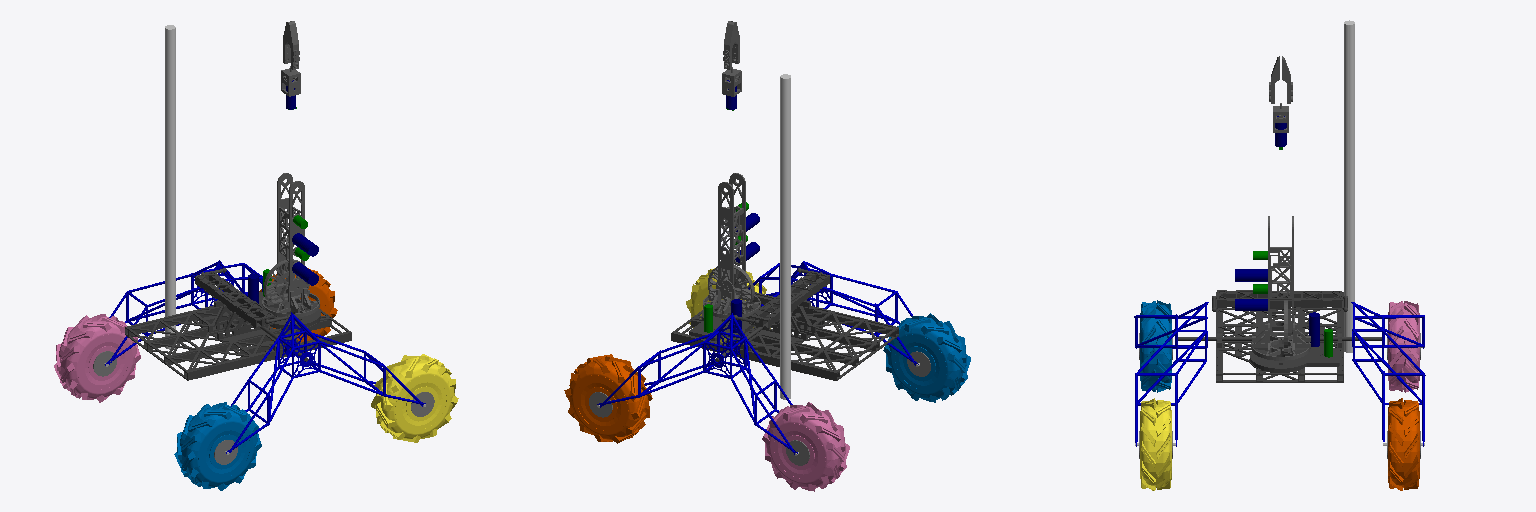
--- Render facts (derived) ---
3 views of the same robot in one strip: view 1: azimuth 30°, elevation 25°; view 2: azimuth 150°, elevation 25°; view 3: azimuth 270°, elevation 25° (orthographic).
Robot: aleph2 — 17 links, 16 joints (4 revolute, 5 continuous, 2 prismatic, 5 fixed); root link base_link; default pose: all joints at 0.
Links seen in each view (by area): view 1: base_link, wheel_RR_link, wheel_RL_link, wheel_FR_link, rocker_R_link, mast_link, manip_shoulder_link, rocker_L_link, manip_base_link, wheel_FL_link, manip_wrist_link; view 2: base_link, wheel_RL_link, wheel_RR_link, wheel_FL_link, rocker_L_link, mast_link, manip_shoulder_link, rocker_R_link, manip_base_link, wheel_FR_link, manip_wrist_link; view 3: base_link, mast_link, wheel_FL_link, wheel_FR_link, rocker_R_link, rocker_L_link, manip_shoulder_link, wheel_RL_link, wheel_RR_link, manip_base_link, manip_wrist_link.
Boxes of the visible links, x1,y1,x2,y2 form: base_link: (125,268,351,380); wheel_RR_link: (174,402,261,490); wheel_RL_link: (54,314,140,402); wheel_FR_link: (371,354,458,442); rocker_R_link: (226,312,425,453); mast_link: (165,25,175,349); manip_shoulder_link: (277,173,318,295); rocker_L_link: (105,260,262,365); manip_base_link: (262,259,319,317); wheel_FL_link: (259,268,337,342); manip_wrist_link: (281,66,300,109); base_link: (671,268,898,380); wheel_RL_link: (762,402,849,491); wheel_RR_link: (883,313,970,402); wheel_FL_link: (564,354,652,443); rocker_L_link: (597,313,797,454); mast_link: (780,74,790,399); manip_shoulder_link: (718,173,759,296); rocker_R_link: (748,261,918,365); manip_base_link: (703,265,760,318); wheel_FR_link: (686,268,770,342); manip_wrist_link: (722,67,741,110); base_link: (1178,290,1381,382); mast_link: (1344,20,1354,352); wheel_FL_link: (1383,398,1424,490); wheel_FR_link: (1135,398,1175,490); rocker_R_link: (1134,302,1208,446); rocker_L_link: (1351,302,1425,446); manip_shoulder_link: (1235,216,1293,334); wheel_RL_link: (1387,301,1424,392); wheel_RR_link: (1139,300,1172,392); manip_base_link: (1251,300,1310,360); manip_wrist_link: (1273,103,1288,149).
Size in the robot's own frame: 1.17 by 1.05 by 1.58 metres.
12 mesh visuals loaded from 10 distinct referenced files (7 binary STL); not drawn: 3 (reference not matched to a file when rendering).

The robot description file, URDF, robot "aleph2":
<?xml version="1.0" encoding="utf-8"?>
<!-- =================================================================================== -->
<!-- |    This document was autogenerated by xacro from aleph2.urdf.xacro              | -->
<!-- |    EDITING THIS FILE BY HAND IS NOT RECOMMENDED                                 | -->
<!-- =================================================================================== -->
<robot name="aleph2">
  <!-- ros_control plugin -->
  <gazebo>
    <plugin filename="libgazebo_ros_control.so" name="gazebo_ros_control">
      <robotNamespace>/aleph2</robotNamespace>
      <robotSimType>gazebo_ros_control/DefaultRobotHWSim</robotSimType>
    </plugin>
  </gazebo>
  <gazebo reference="base_link">
    <material>Gazebo/Grey</material>
  </gazebo>
  <gazebo reference="rocker_R_link">
    <material>Gazebo/Blue</material>
  </gazebo>
  <gazebo reference="rocker_L_link">
    <material>Gazebo/Blue</material>
  </gazebo>
  <gazebo reference="wheel_FL_link">
    <material>Gazebo/FlatBlack</material>
    <mu1>3.0</mu1>
    <mu2>0.5</mu2>
    <fdir1>1 0 0</fdir1>
  </gazebo>
  <gazebo reference="wheel_FR_link">
    <material>Gazebo/FlatBlack</material>
    <mu1>3.0</mu1>
    <mu2>0.5</mu2>
    <fdir1>1 0 0</fdir1>
  </gazebo>
  <gazebo reference="wheel_RL_link">
    <material>Gazebo/FlatBlack</material>
    <mu1>3.0</mu1>
    <mu2>0.5</mu2>
    <fdir1>1 0 0</fdir1>
  </gazebo>
  <gazebo reference="wheel_RR_link">
    <material>Gazebo/FlatBlack</material>
    <mu1>3.0</mu1>
    <mu2>0.5</mu2>
    <fdir1>1 0 0</fdir1>
  </gazebo>
  <gazebo reference="mast_link">
    <material>Gazebo/White</material>
  </gazebo>
  <gazebo reference="manip_base_link">
    <material>Gazebo/Grey</material>
  </gazebo>
  <gazebo reference="manip_shoulder_link">
    <material>Gazebo/Grey</material>
    <selfCollide>true</selfCollide>
  </gazebo>
  <gazebo reference="manip_elbow_link">
    <material>Gazebo/Grey</material>
    <selfCollide>true</selfCollide>
  </gazebo>
  <gazebo reference="manip_wrist_link">
    <material>Gazebo/Grey</material>
    <selfCollide>true</selfCollide>
  </gazebo>
  <gazebo reference="manip_gripper_link">
    <material>Gazebo/Grey</material>
    <selfCollide>true</selfCollide>
  </gazebo>
  <gazebo reference="manip_jaw_L_link">
    <material>Gazebo/Grey</material>
    <selfCollide>true</selfCollide>
  </gazebo>
  <gazebo reference="manip_jaw_R_link">
    <material>Gazebo/Grey</material>
    <selfCollide>true</selfCollide>
  </gazebo>
  <material name="base">
    <color rgba="0.3 0.3 0.3 1"/>
  </material>
  <material name="rocker">
    <color rgba="0 0 0.8 1"/>
  </material>
  <material name="wheel">
    <texture filename="package://aleph2_description/textures/wheel.jpg"/>
  </material>
  <material name="manip">
    <color rgba="0.4 0.4 0.4 1"/>
  </material>
  <material name="motor">
    <color rgba="0 0 0.5 1"/>
  </material>
  <material name="encoder">
    <color rgba="0 0.5 0 1"/>
  </material>
  <material name="mast">
    <color rgba="0.8 0.8 0.8 1"/>
  </material>
  <link name="base_link">
    <visual>
      <geometry>
        <mesh filename="package://aleph2_description/meshes/base.STL"/>
      </geometry>
      <origin rpy="1.57079632679 0 1.57079632679" xyz="0 0 0"/>
      <material name="base"/>
    </visual>
    <visual>
      <geometry>
        <cylinder length="0.12" radius="0.02"/>
      </geometry>
      <origin xyz="0.06 0.125 0.063"/>
      <material name="motor">
        <color rgba="0 0 0.5 1"/>
      </material>
    </visual>
    <visual>
      <geometry>
        <cylinder length="0.1" radius="0.016"/>
      </geometry>
      <origin xyz="0.151 0.175 0.053"/>
      <material name="encoder">
        <color rgba="0 0.5 0 1"/>
      </material>
    </visual>
    <collision>
      <geometry>
        <box size="0.72 0.5 0.1"/>
      </geometry>
      <origin xyz="-0.08 0 0"/>
    </collision>
    <collision>
      <geometry>
        <box size="0.16 0.5 0.1"/>
      </geometry>
      <origin xyz="-0.06 0 0.09"/>
    </collision>
    <collision>
      <geometry>
        <cylinder length="0.12" radius="0.02"/>
      </geometry>
      <origin xyz="0.06 0.125 0.063"/>
    </collision>
    <collision>
      <geometry>
        <cylinder length="0.1" radius="0.016"/>
      </geometry>
      <origin xyz="0.151 0.175 0.053"/>
    </collision>
    <inertial>
      <origin xyz="-0.06700 0.00064 0.00551"/>
      <mass value="9.0"/>
      <inertia ixx="0.23691" ixy="-0.00014" ixz="-0.00314" iyy="0.23328" iyz="-0.00054" izz="0.40961"/>
    </inertial>
  </link>
  <link name="rocker_R_link">
    <visual>
      <geometry>
        <mesh filename="package://aleph2_description/meshes/rocker.STL"/>
      </geometry>
      <material name="rocker"/>
    </visual>
    <collision>
      <geometry>
        <mesh filename="package://aleph2_description/meshes/rocker_collision.STL"/>
      </geometry>
    </collision>
    <inertial>
      <origin xyz="0.00000 -0.01737 0.03763"/>
      <mass value="1.5"/>
      <inertia ixx="0.01934" ixy="-0.00942" ixz="-0.00271" iyy="0.03716" iyz="0.00516" izz="0.04409"/>
    </inertial>
  </link>
  <link name="rocker_L_link">
    <visual>
      <geometry>
        <mesh filename="package://aleph2_description/meshes/rocker.STL"/>
      </geometry>
      <material name="rocker"/>
    </visual>
    <collision>
      <geometry>
        <mesh filename="package://aleph2_description/meshes/rocker_collision.STL"/>
      </geometry>
    </collision>
    <inertial>
      <origin xyz="0.00000 -0.01737 0.03763"/>
      <mass value="1.5"/>
      <inertia ixx="0.01934" ixy="-0.00942" ixz="-0.00271" iyy="0.03716" iyz="0.00516" izz="0.04409"/>
    </inertial>
  </link>
  <link name="wheel_FR_link">
    <visual>
      <geometry>
        <mesh filename="package://aleph2_description/meshes/wheel.STL"/>
      </geometry>
      <material name="wheel"/>
    </visual>
    <visual name="piasta">
      <geometry>
        <cylinder length="0.12" radius="0.05"/>
      </geometry>
      <origin rpy="1.57079632679 0 0" xyz="0 0 0"/>
      <material name="piasta">
        <color rgba="0.5 0.5 0.5 1"/>
      </material>
    </visual>
    <visual name="walek">
      <geometry>
        <cylinder length="0.15" radius="0.0055"/>
      </geometry>
      <origin rpy="1.57079632679 0 0" xyz="0 0 0"/>
      <material name="walek">
        <color rgba="0.7 0.7 0.7 1"/>
      </material>
    </visual>
    <collision>
      <geometry>
        <cylinder length="0.1" radius="0.16"/>
      </geometry>
      <origin rpy="1.57079632679 0 0" xyz="0 0 0"/>
    </collision>
    <collision>
      <geometry>
        <cylinder length="0.15" radius="0.007"/>
      </geometry>
      <origin rpy="1.57079632679 0 0" xyz="0 0 0"/>
    </collision>
    <inertial>
      <origin xyz="0.00000 0.00000 0.00000"/>
      <mass value="6.0"/>
      <inertia ixx="0.03845" ixy="0.00000" ixz="0.00000" iyy="0.06495" iyz="0.00000" izz="0.03845"/>
    </inertial>
  </link>
  <link name="wheel_RR_link">
    <visual>
      <geometry>
        <mesh filename="package://aleph2_description/meshes/wheel.STL"/>
      </geometry>
      <material name="wheel"/>
    </visual>
    <visual name="piasta">
      <geometry>
        <cylinder length="0.12" radius="0.05"/>
      </geometry>
      <origin rpy="1.57079632679 0 0" xyz="0 0 0"/>
      <material name="piasta">
        <color rgba="0.5 0.5 0.5 1"/>
      </material>
    </visual>
    <visual name="walek">
      <geometry>
        <cylinder length="0.15" radius="0.0055"/>
      </geometry>
      <origin rpy="1.57079632679 0 0" xyz="0 0 0"/>
      <material name="walek">
        <color rgba="0.7 0.7 0.7 1"/>
      </material>
    </visual>
    <collision>
      <geometry>
        <cylinder length="0.1" radius="0.16"/>
      </geometry>
      <origin rpy="1.57079632679 0 0" xyz="0 0 0"/>
    </collision>
    <collision>
      <geometry>
        <cylinder length="0.15" radius="0.007"/>
      </geometry>
      <origin rpy="1.57079632679 0 0" xyz="0 0 0"/>
    </collision>
    <inertial>
      <origin xyz="0.00000 0.00000 0.00000"/>
      <mass value="6.0"/>
      <inertia ixx="0.03845" ixy="0.00000" ixz="0.00000" iyy="0.06495" iyz="0.00000" izz="0.03845"/>
    </inertial>
  </link>
  <link name="wheel_FL_link">
    <visual>
      <geometry>
        <mesh filename="package://aleph2_description/meshes/wheel.STL"/>
      </geometry>
      <material name="wheel"/>
    </visual>
    <visual name="piasta">
      <geometry>
        <cylinder length="0.12" radius="0.05"/>
      </geometry>
      <origin rpy="1.57079632679 0 0" xyz="0 0 0"/>
      <material name="piasta">
        <color rgba="0.5 0.5 0.5 1"/>
      </material>
    </visual>
    <visual name="walek">
      <geometry>
        <cylinder length="0.15" radius="0.0055"/>
      </geometry>
      <origin rpy="1.57079632679 0 0" xyz="0 0 0"/>
      <material name="walek">
        <color rgba="0.7 0.7 0.7 1"/>
      </material>
    </visual>
    <collision>
      <geometry>
        <cylinder length="0.1" radius="0.16"/>
      </geometry>
      <origin rpy="1.57079632679 0 0" xyz="0 0 0"/>
    </collision>
    <collision>
      <geometry>
        <cylinder length="0.15" radius="0.007"/>
      </geometry>
      <origin rpy="1.57079632679 0 0" xyz="0 0 0"/>
    </collision>
    <inertial>
      <origin xyz="0.00000 0.00000 0.00000"/>
      <mass value="6.0"/>
      <inertia ixx="0.03845" ixy="0.00000" ixz="0.00000" iyy="0.06495" iyz="0.00000" izz="0.03845"/>
    </inertial>
  </link>
  <link name="wheel_RL_link">
    <visual>
      <geometry>
        <mesh filename="package://aleph2_description/meshes/wheel.STL"/>
      </geometry>
      <material name="wheel"/>
    </visual>
    <visual name="piasta">
      <geometry>
        <cylinder length="0.12" radius="0.05"/>
      </geometry>
      <origin rpy="1.57079632679 0 0" xyz="0 0 0"/>
      <material name="piasta">
        <color rgba="0.5 0.5 0.5 1"/>
      </material>
    </visual>
    <visual name="walek">
      <geometry>
        <cylinder length="0.15" radius="0.0055"/>
      </geometry>
      <origin rpy="1.57079632679 0 0" xyz="0 0 0"/>
      <material name="walek">
        <color rgba="0.7 0.7 0.7 1"/>
      </material>
    </visual>
    <collision>
      <geometry>
        <cylinder length="0.1" radius="0.16"/>
      </geometry>
      <origin rpy="1.57079632679 0 0" xyz="0 0 0"/>
    </collision>
    <collision>
      <geometry>
        <cylinder length="0.15" radius="0.007"/>
      </geometry>
      <origin rpy="1.57079632679 0 0" xyz="0 0 0"/>
    </collision>
    <inertial>
      <origin xyz="0.00000 0.00000 0.00000"/>
      <mass value="6.0"/>
      <inertia ixx="0.03845" ixy="0.00000" ixz="0.00000" iyy="0.06495" iyz="0.00000" izz="0.03845"/>
    </inertial>
  </link>
  <link name="manip_base_link">
    <visual>
      <geometry>
        <mesh filename="package://aleph2_description/meshes/manip_base.STL"/>
      </geometry>
      <origin rpy="1.57079632679 0 -1.57079632679"/>
      <material name="manip"/>
    </visual>
    <collision>
      <geometry>
        <cylinder length="0.02" radius="0.125"/>
      </geometry>
      <origin xyz="0 0 0.01"/>
    </collision>
    <collision>
      <geometry>
        <cylinder length="0.025" radius="0.11"/>
      </geometry>
      <origin rpy="1.57079632679 0 0" xyz="0 0.017 0.09"/>
    </collision>
    <collision>
      <geometry>
        <box size="0.1 0.15 0.15"/>
      </geometry>
      <origin xyz="0 0 0.075"/>
    </collision>
    <collision>
      <geometry>
        <box size="0.1 0.22 0.10"/>
      </geometry>
      <origin xyz="0 0 0.05"/>
    </collision>
    <inertial>
      <origin xyz="-0.00251 0.00769 0.05483"/>
      <mass value="2.0"/>
      <inertia ixx="0.00845" ixy="-0.00007" ixz="-0.00023" iyy="0.00892" iyz="0.00049" izz="0.00862"/>
    </inertial>
  </link>
  <link name="manip_shoulder_link">
    <visual>
      <geometry>
        <mesh filename="package://aleph2_description/meshes/manip_shoulder.STL"/>
      </geometry>
      <origin rpy="3.14159265359 0 0"/>
      <material name="manip"/>
    </visual>
    <visual>
      <geometry>
        <cylinder length="0.122" radius="0.0225"/>
      </geometry>
      <origin rpy="0 0 0" xyz="0.082 0 0.106"/>
      <material name="motor">
        <color rgba="0 0 0.5 1"/>
      </material>
    </visual>
    <visual>
      <geometry>
        <cylinder length="0.122" radius="0.0225"/>
      </geometry>
      <origin rpy="0 0 0" xyz="0.2 0 0.106"/>
      <material name="motor">
        <color rgba="0 0 0.5 1"/>
      </material>
    </visual>
    <visual>
      <geometry>
        <cylinder length="0.054" radius="0.017"/>
      </geometry>
      <origin rpy="0 0 0" xyz="0.147 -0.005 0.072"/>
      <material name="enkoder">
        <color rgba="0 0.5 0 1"/>
      </material>
    </visual>
    <visual>
      <geometry>
        <cylinder length="0.054" radius="0.017"/>
      </geometry>
      <origin rpy="0 0 0" xyz="0.278 0 0.072"/>
      <material name="enkoder">
        <color rgba="0 0.5 0 1"/>
      </material>
    </visual>
    <collision>
      <geometry>
        <box size="0.4 0.07 0.1"/>
      </geometry>
      <origin xyz="0.2 0.0 0"/>
    </collision>
    <collision>
      <geometry>
        <cylinder length="0.1" radius="0.035"/>
      </geometry>
    </collision>
    <collision>
      <geometry>
        <cylinder length="0.1" radius="0.035"/>
      </geometry>
      <origin xyz="0.4 0 0"/>
    </collision>
    <collision>
      <geometry>
        <cylinder length="0.122" radius="0.0225"/>
      </geometry>
      <origin rpy="0 0 0" xyz="0.082 0 0.106"/>
      <material name="motor">
        <color rgba="0 0 0.5 1"/>
      </material>
    </collision>
    <collision>
      <geometry>
        <cylinder length="0.122" radius="0.0225"/>
      </geometry>
      <origin rpy="0 0 0" xyz="0.2 0 0.106"/>
      <material name="motor">
        <color rgba="0 0 0.5 1"/>
      </material>
    </collision>
    <collision>
      <geometry>
        <cylinder length="0.054" radius="0.017"/>
      </geometry>
      <origin rpy="0 0 0" xyz="0.147 -0.005 0.072"/>
      <material name="enkoder">
        <color rgba="0 0.5 0 1"/>
      </material>
    </collision>
    <collision>
      <geometry>
        <cylinder length="0.054" radius="0.017"/>
      </geometry>
      <origin rpy="0 0 0" xyz="0.278 0 0.072"/>
      <material name="enkoder">
        <color rgba="0 0.5 0 1"/>
      </material>
    </collision>
    <inertial>
      <origin xyz="0.20075 0.00074 0.00055"/>
      <mass value="3.0"/>
      <inertia ixx="0.00612" ixy="-0.00012" ixz="0.00022" iyy="0.04816" iyz="0.00000" izz="0.04531"/>
    </inertial>
  </link>
  <link name="manip_elbow_link">
    <visual>
      <geometry>
        <mesh filename="package://aleph2_description/meshes/manip_elbow.STL"/>
      </geometry>
      <origin rpy="0 1.57079632679 0"/>
      <material name="manip"/>
    </visual>
    <collision>
      <geometry>
        <box size="0.4 0.06 0.09"/>
      </geometry>
      <origin xyz="0.2 0.0 0"/>
    </collision>
    <collision>
      <geometry>
        <cylinder length="0.09" radius="0.03"/>
      </geometry>
      <origin xyz="0.4 0 0"/>
    </collision>
    <collision>
      <geometry>
        <cylinder length="0.025" radius="0.085"/>
      </geometry>
      <origin xyz="0 0 0.02"/>
    </collision>
    <inertial>
      <origin xyz="0.12196 0.00137 0.00713"/>
      <mass value="3.0"/>
      <inertia ixx="0.00480" ixy="-0.00030" ixz="-0.00277" iyy="0.05728" iyz="0.00004" izz="0.05732"/>
    </inertial>
  </link>
  <link name="manip_wrist_link">
    <visual>
      <geometry>
        <mesh filename="package://aleph2_description/meshes/manip_wrist.STL"/>
      </geometry>
      <origin rpy="0 1.57079632679 0"/>
      <material name="manip"/>
    </visual>
    <visual>
      <geometry>
        <cylinder length="0.108" radius="0.02"/>
      </geometry>
      <origin rpy="0 1.57079632679 0" xyz="-0.03 0 0"/>
      <material name="motor">
        <color rgba="0 0 0.5 1"/>
      </material>
    </visual>
    <visual>
      <geometry>
        <box size="0.015 0.03 0.008"/>
      </geometry>
      <origin rpy="0 1.57079632679 0" xyz="-0.088 0.005 0"/>
      <material name="enkoder">
        <color rgba="0 0.5 0 1"/>
      </material>
    </visual>
    <collision>
      <geometry>
        <box size="0.154 0.052 0.060"/>
      </geometry>
      <origin rpy="0 0 0" xyz="-0.016 0 0"/>
    </collision>
    <inertial>
      <origin xyz="-0.02500 0.00000 0.00000"/>
      <mass value="0.7"/>
      <inertia ixx="0.00042" ixy="0.00000" ixz="0.00000" iyy="0.00120" iyz="0.00000" izz="0.00112"/>
    </inertial>
  </link>
  <link name="manip_gripper_link">
    <visual>
      <geometry>
        <mesh filename="package://aleph2_description/meshes/manip_gripper.STL"/>
      </geometry>
      <origin rpy="0 1.57079632679 0"/>
      <material name="manip"/>
    </visual>
    <collision>
      <geometry>
        <box size="0.017 0.072 0.03"/>
      </geometry>
      <origin xyz="0.0085 0 0"/>
    </collision>
    <collision>
      <geometry>
        <box size="0.09 0.171 0.054"/>
      </geometry>
      <origin xyz="0.061 0 0"/>
    </collision>
    <collision>
      <geometry>
        <box size="0.049 0.068 0.089"/>
      </geometry>
      <origin xyz="0.0405 -0.1155 0.0175"/>
    </collision>
    <inertial>
      <origin xyz="0.04679 -0.03978 0.00393"/>
      <mass value="1.0"/>
      <inertia ixx="0.00496" ixy="0.00022" ixz="-0.00002" iyy="0.00108" iyz="-0.00036" izz="0.00535"/>
    </inertial>
  </link>
  <link name="manip_jaw_L_link">
    <visual>
      <geometry>
        <mesh filename="package://aleph2_description/meshes/manip_jaw.STL"/>
      </geometry>
      <origin rpy="-1.57079632679 0 1.57079632679"/>
      <material name="manip"/>
    </visual>
    <collision>
      <geometry>
        <box size="0.180 0.035 0.027"/>
      </geometry>
      <origin xyz="0.09 0.0105 0"/>
    </collision>
    <inertial>
      <origin xyz="0.09230 0.00805 0.00000"/>
      <mass value="0.15"/>
      <inertia ixx="0.00003" ixy="0.00005" ixz="0.00000" iyy="0.00033" iyz="0.00000" izz="0.00033"/>
    </inertial>
  </link>
  <link name="manip_jaw_R_link">
    <visual>
      <geometry>
        <mesh filename="package://aleph2_description/meshes/manip_jaw.STL"/>
      </geometry>
      <origin rpy="-1.57079632679 3.14159265359 1.57079632679"/>
      <material name="manip"/>
    </visual>
    <collision>
      <geometry>
        <box size="0.180 0.035 0.027"/>
      </geometry>
      <origin xyz="0.09 -0.0105 0"/>
    </collision>
    <inertial>
      <origin xyz="0.09230 -0.00805 0.00000"/>
      <mass value="0.15"/>
      <inertia ixx="0.00003" ixy="0.00005" ixz="0.00000" iyy="0.00033" iyz="0.00000" izz="0.00033"/>
    </inertial>
  </link>
  <link name="manip_effector_tip_link"/>
  <link name="mast_link">
    <visual>
      <geometry>
        <cylinder length="1.3" radius="0.02"/>
      </geometry>
      <origin rpi="0 0 0" xyz="0 0 0.65"/>
      <material name="mast"/>
    </visual>
    <collision>
      <geometry>
        <cylinder length="1.3" radius="0.03"/>
      </geometry>
      <origin rpi="0 0 0" xyz="0 0 0.65"/>
    </collision>
    <collision>
      <geometry>
        <cylinder length="0.7" radius="0.1"/>
      </geometry>
      <origin rpi="0 0 0" xyz="0 0 0.95"/>
    </collision>
    <inertial>
      <mass value="1.0"/>
      <inertia ixx="1.0" ixy="0.0" ixz="0.0" iyy="1.0" iyz="0.0" izz="1.0"/>
    </inertial>
  </link>
  <link name="zed_position">
    <visual>
      <origin rpy="0 0 0" xyz="0 0 0"/>
      <geometry>
        <mesh filename="package://aleph2_description/meshes/ZED.stl"/>
      </geometry>
      <material name="light_grey">
        <color rgba="0.8 0.8 0.8 1"/>
      </material>
    </visual>
    <collision>
      <geometry>
        <box size="0.035 0.18 0.032"/>
      </geometry>
    </collision>
  </link>
  <!-- ROCKERS -->
  <joint name="rocker_R_joint" type="fixed">
    <parent link="base_link"/>
    <child link="rocker_R_link"/>
    <origin rpy="1.57079632679 0 3.14159265359" xyz="0 -0.375 0"/>
  </joint>
  <joint name="rocker_L_joint" type="fixed">
    <parent link="base_link"/>
    <child link="rocker_L_link"/>
    <origin rpy="1.57079632679 0 0" xyz="0 0.375 0"/>
  </joint>
  <!-- WHEELS -->
  <joint name="wheel_FR_joint" type="continuous">
    <parent link="rocker_R_link"/>
    <child link="wheel_FR_link"/>
    <origin rpy="1.57079632679 0 0" xyz="-0.418 -0.226 -0.07"/>
    <axis xyz="0 1 0"/>
    <dynamics damping="0.5" friction="0.2"/>
    <limit effort="20" velocity="25.0"/>
  </joint>
  <joint name="wheel_RR_joint" type="continuous">
    <parent link="rocker_R_link"/>
    <child link="wheel_RR_link"/>
    <origin rpy="-1.57079632679 0 0" xyz="0.418 -0.226 -0.07"/>
    <axis xyz="0 -1 0"/>
    <dynamics damping="0.5" friction="0.2"/>
    <limit effort="20" velocity="25.0"/>
  </joint>
  <joint name="wheel_FL_joint" type="continuous">
    <parent link="rocker_L_link"/>
    <child link="wheel_FL_link"/>
    <origin rpy="-1.57079632679 0 0" xyz="0.418 -0.226 -0.07"/>
    <axis xyz="0 1 0"/>
    <dynamics damping="0.5" friction="0.2"/>
    <limit effort="20" velocity="25.0"/>
  </joint>
  <joint name="wheel_RL_joint" type="continuous">
    <parent link="rocker_L_link"/>
    <child link="wheel_RL_link"/>
    <origin rpy="1.57079632679 0 0" xyz="-0.418 -0.226 -0.07"/>
    <axis xyz="0 -1 0"/>
    <dynamics damping="0.5" friction="0.2"/>
    <limit effort="20" velocity="25.0"/>
  </joint>
  <!-- MANIP -->
  <joint name="manip_base_joint" type="continuous">
    <parent link="base_link"/>
    <child link="manip_base_link"/>
    <origin xyz="0.151 0.0035 0.032"/>
    <axis xyz="0 0 1"/>
    <limit effort="100" velocity="0.15"/>
    <dynamics damping="100.0" friction="60.0"/>
  </joint>
  <joint name="manip_shoulder_joint" type="revolute">
    <parent link="manip_base_link"/>
    <child link="manip_shoulder_link"/>
    <origin rpy="1.57079632679 -1.57079632679 0" xyz="0 0 0.09"/>
    <axis xyz="0 0 1"/>
    <limit effort="100" lower="-1.57079632679" upper="1.57079632679" velocity="0.3"/>
    <dynamics damping="100.0" friction="60.0"/>
  </joint>
  <joint name="manip_elbow_joint" type="revolute">
    <parent link="manip_shoulder_link"/>
    <child link="manip_elbow_link"/>
    <origin rpy="3.14159265359 0 0" xyz="0.4 0 0"/>
    <axis xyz="0 0 -1"/>
    <limit effort="100" lower="-2.28" upper="2.43" velocity="0.5"/>
    <dynamics damping="100.0" friction="50.0"/>
  </joint>
  <joint name="manip_wrist_tilt_joint" type="revolute">
    <parent link="manip_elbow_link"/>
    <child link="manip_wrist_link"/>
    <origin xyz="0.4 0 0"/>
    <axis xyz="0 0 -1"/>
    <limit effort="100" lower="-2.2" upper="2.2" velocity="0.5"/>
    <dynamics damping="20.0" friction="40.0"/>
  </joint>
  <joint name="manip_wrist_roll_joint" type="revolute">
    <parent link="manip_wrist_link"/>
    <child link="manip_gripper_link"/>
    <origin rpy="-1.57079632679 0 0" xyz="0.06 0 0"/>
    <axis xyz="-1 0 0"/>
    <limit effort="50" lower="-3.14159265359" upper="3.14159265359" velocity="0.5"/>
    <dynamics damping="3.0" friction="10.0"/>
  </joint>
  <joint name="manip_gripper_joint" type="prismatic">
    <parent link="manip_gripper_link"/>
    <child link="manip_jaw_L_link"/>
    <origin xyz="0.025 -0.03 0"/>
    <axis xyz="0 1 0"/>
    <limit effort="60" lower="-0.033" upper="0" velocity="0.05"/>
    <dynamics damping="5.0" friction="30.0"/>
  </joint>
  <joint name="manip_gripper_joint_mimic" type="prismatic">
    <parent link="manip_gripper_link"/>
    <child link="manip_jaw_R_link"/>
    <origin xyz="0.025 0.03 0"/>
    <axis xyz="0 -1 0"/>
    <mimic joint="manip_gripper_joint"/>
    <limit effort="60" lower="-0.033" upper="0" velocity="0.05"/>
    <dynamics damping="5.0" friction="30.0"/>
  </joint>
  <joint name="manip_effector_tip_joint" type="fixed">
    <parent link="manip_gripper_link"/>
    <child link="manip_effector_tip_link"/>
    <origin xyz="0.20 0 0"/>
  </joint>
  <!-- MASZT -->
  <joint name="mast_joint" type="fixed">
    <parent link="base_link"/>
    <child link="mast_link"/>
    <origin xyz="-0.22 0.25 -0.15"/>
  </joint>
  <!-- ZED -->
  <joint name="zed_camera_joint" type="fixed">
    <parent link="base_link"/>
    <child link="zed_position"/>
    <origin xyz="0.265 -0.16 0.015"/>
  </joint>
  <!-- TRASNMISSIONS -->
  <transmission name="wheel_FR_transmission">
    <type>transmission_interface/SimpleTransmission</type>
    <joint name="wheel_FR_joint">
      <hardwareInterface>hardware_interface/VelocityJointInterface</hardwareInterface>
    </joint>
    <actuator name="wheel_FR_actuator">
      <hardwareInterface>hardware_interface/VelocityJointInterface</hardwareInterface>
      <mechanicalReduction>1</mechanicalReduction>
    </actuator>
  </transmission>
  <transmission name="wheel_FL_transmission">
    <type>transmission_interface/SimpleTransmission</type>
    <joint name="wheel_FL_joint">
      <hardwareInterface>hardware_interface/VelocityJointInterface</hardwareInterface>
    </joint>
    <actuator name="wheel_FL_actuator">
      <hardwareInterface>hardware_interface/VelocityJointInterface</hardwareInterface>
      <mechanicalReduction>1</mechanicalReduction>
    </actuator>
  </transmission>
  <transmission name="wheel_RR_transmission">
    <type>transmission_interface/SimpleTransmission</type>
    <joint name="wheel_RR_joint">
      <hardwareInterface>hardware_interface/VelocityJointInterface</hardwareInterface>
    </joint>
    <actuator name="wheel_RR_actuator">
      <hardwareInterface>hardware_interface/VelocityJointInterface</hardwareInterface>
      <mechanicalReduction>1</mechanicalReduction>
    </actuator>
  </transmission>
  <transmission name="wheel_RL_transmission">
    <type>transmission_interface/SimpleTransmission</type>
    <joint name="wheel_RL_joint">
      <hardwareInterface>hardware_interface/VelocityJointInterface</hardwareInterface>
    </joint>
    <actuator name="wheel_RL_actuator">
      <hardwareInterface>hardware_interface/VelocityJointInterface</hardwareInterface>
      <mechanicalReduction>1</mechanicalReduction>
    </actuator>
  </transmission>
  <transmission name="manip_base_transmission">
    <type>transmission_interface/SimpleTransmission</type>
    <joint name="manip_base_joint">
      <hardwareInterface>hardware_interface/EffortJointInterface</hardwareInterface>
    </joint>
    <actuator name="manip_base_actuator">
      <hardwareInterface>hardware_interface/EffortJointInterface</hardwareInterface>
      <mechanicalReduction>1</mechanicalReduction>
    </actuator>
  </transmission>
  <transmission name="manip_shoulder_transmission">
    <type>transmission_interface/SimpleTransmission</type>
    <joint name="manip_shoulder_joint">
      <hardwareInterface>hardware_interface/EffortJointInterface</hardwareInterface>
    </joint>
    <actuator name="manip_shoulder_actuator">
      <hardwareInterface>hardware_interface/EffortJointInterface</hardwareInterface>
      <mechanicalReduction>1</mechanicalReduction>
    </actuator>
  </transmission>
  <transmission name="manip_elbow_transmission">
    <type>transmission_interface/SimpleTransmission</type>
    <joint name="manip_elbow_joint">
      <hardwareInterface>hardware_interface/EffortJointInterface</hardwareInterface>
    </joint>
    <actuator name="manip_elbow_actuator">
      <hardwareInterface>hardware_interface/EffortJointInterface</hardwareInterface>
      <mechanicalReduction>1</mechanicalReduction>
    </actuator>
  </transmission>
  <transmission name="manip_wrist_tilt_transmission">
    <type>transmission_interface/SimpleTransmission</type>
    <joint name="manip_wrist_tilt_joint">
      <hardwareInterface>hardware_interface/EffortJointInterface</hardwareInterface>
    </joint>
    <actuator name="manip_wrist_tilt_actuator">
      <hardwareInterface>hardware_interface/EffortJointInterface</hardwareInterface>
      <mechanicalReduction>1</mechanicalReduction>
    </actuator>
  </transmission>
  <transmission name="manip_wrist_roll_transmission">
    <type>transmission_interface/SimpleTransmission</type>
    <joint name="manip_wrist_roll_joint">
      <hardwareInterface>hardware_interface/EffortJointInterface</hardwareInterface>
    </joint>
    <actuator name="manip_wrist_roll_actuator">
      <hardwareInterface>hardware_interface/EffortJointInterface</hardwareInterface>
      <mechanicalReduction>1</mechanicalReduction>
    </actuator>
  </transmission>
  <transmission name="manip_gripper_transmission">
    <type>transmission_interface/SimpleTransmission</type>
    <joint name="manip_gripper_joint">
      <hardwareInterface>hardware_interface/EffortJointInterface</hardwareInterface>
    </joint>
    <actuator name="manip_gripper_actuator">
      <hardwareInterface>hardware_interface/EffortJointInterface</hardwareInterface>
      <mechanicalReduction>1</mechanicalReduction>
    </actuator>
  </transmission>
  <!-- <link name="world"/>

  <joint name="fixed" type="fixed">
    <parent link="world"/>
    <child link="base_link"/>
    <origin xyz="0.0 0.0 2.0"/>
  </joint> -->
</robot>
